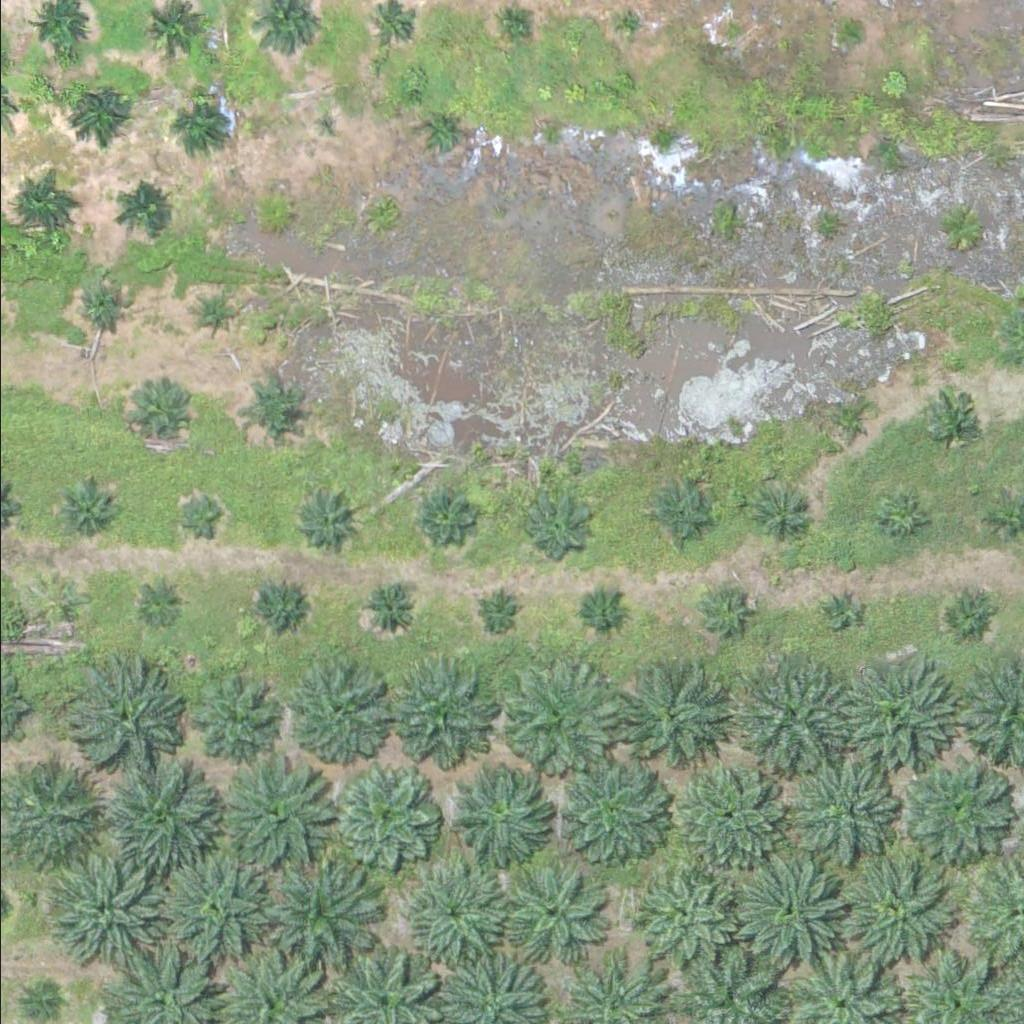Kelapa_Sawit: (254, 856, 380, 981), (60, 654, 186, 779), (158, 851, 272, 964), (213, 761, 327, 874), (328, 759, 442, 872), (496, 663, 610, 776), (50, 849, 163, 962), (108, 762, 221, 875), (838, 660, 951, 773), (736, 661, 849, 774), (621, 661, 734, 774), (552, 753, 665, 866), (377, 656, 491, 768), (900, 755, 1013, 867), (842, 860, 955, 972), (735, 856, 848, 968), (681, 771, 782, 871), (795, 767, 896, 867), (627, 868, 728, 968), (495, 865, 596, 965), (292, 662, 393, 762), (403, 866, 503, 966), (449, 770, 549, 870), (188, 672, 276, 760), (522, 490, 597, 565), (130, 388, 193, 451), (246, 377, 309, 440), (174, 92, 237, 155), (407, 486, 470, 549), (58, 475, 121, 538), (357, 576, 420, 639), (12, 178, 75, 240), (112, 177, 175, 239), (67, 81, 129, 144), (747, 486, 810, 548), (650, 485, 713, 547), (296, 487, 359, 549), (245, 573, 308, 635), (702, 588, 753, 638), (140, 579, 191, 629), (43, 578, 94, 628), (178, 494, 229, 544), (578, 584, 629, 634), (931, 390, 981, 440), (875, 492, 925, 542), (81, 280, 131, 330), (471, 588, 521, 638), (940, 591, 990, 641), (417, 110, 467, 160), (195, 297, 233, 335), (829, 407, 867, 445), (820, 590, 858, 628), (255, 194, 293, 232), (607, 8, 645, 46), (503, 10, 529, 35), (843, 22, 868, 47), (314, 114, 339, 139)
